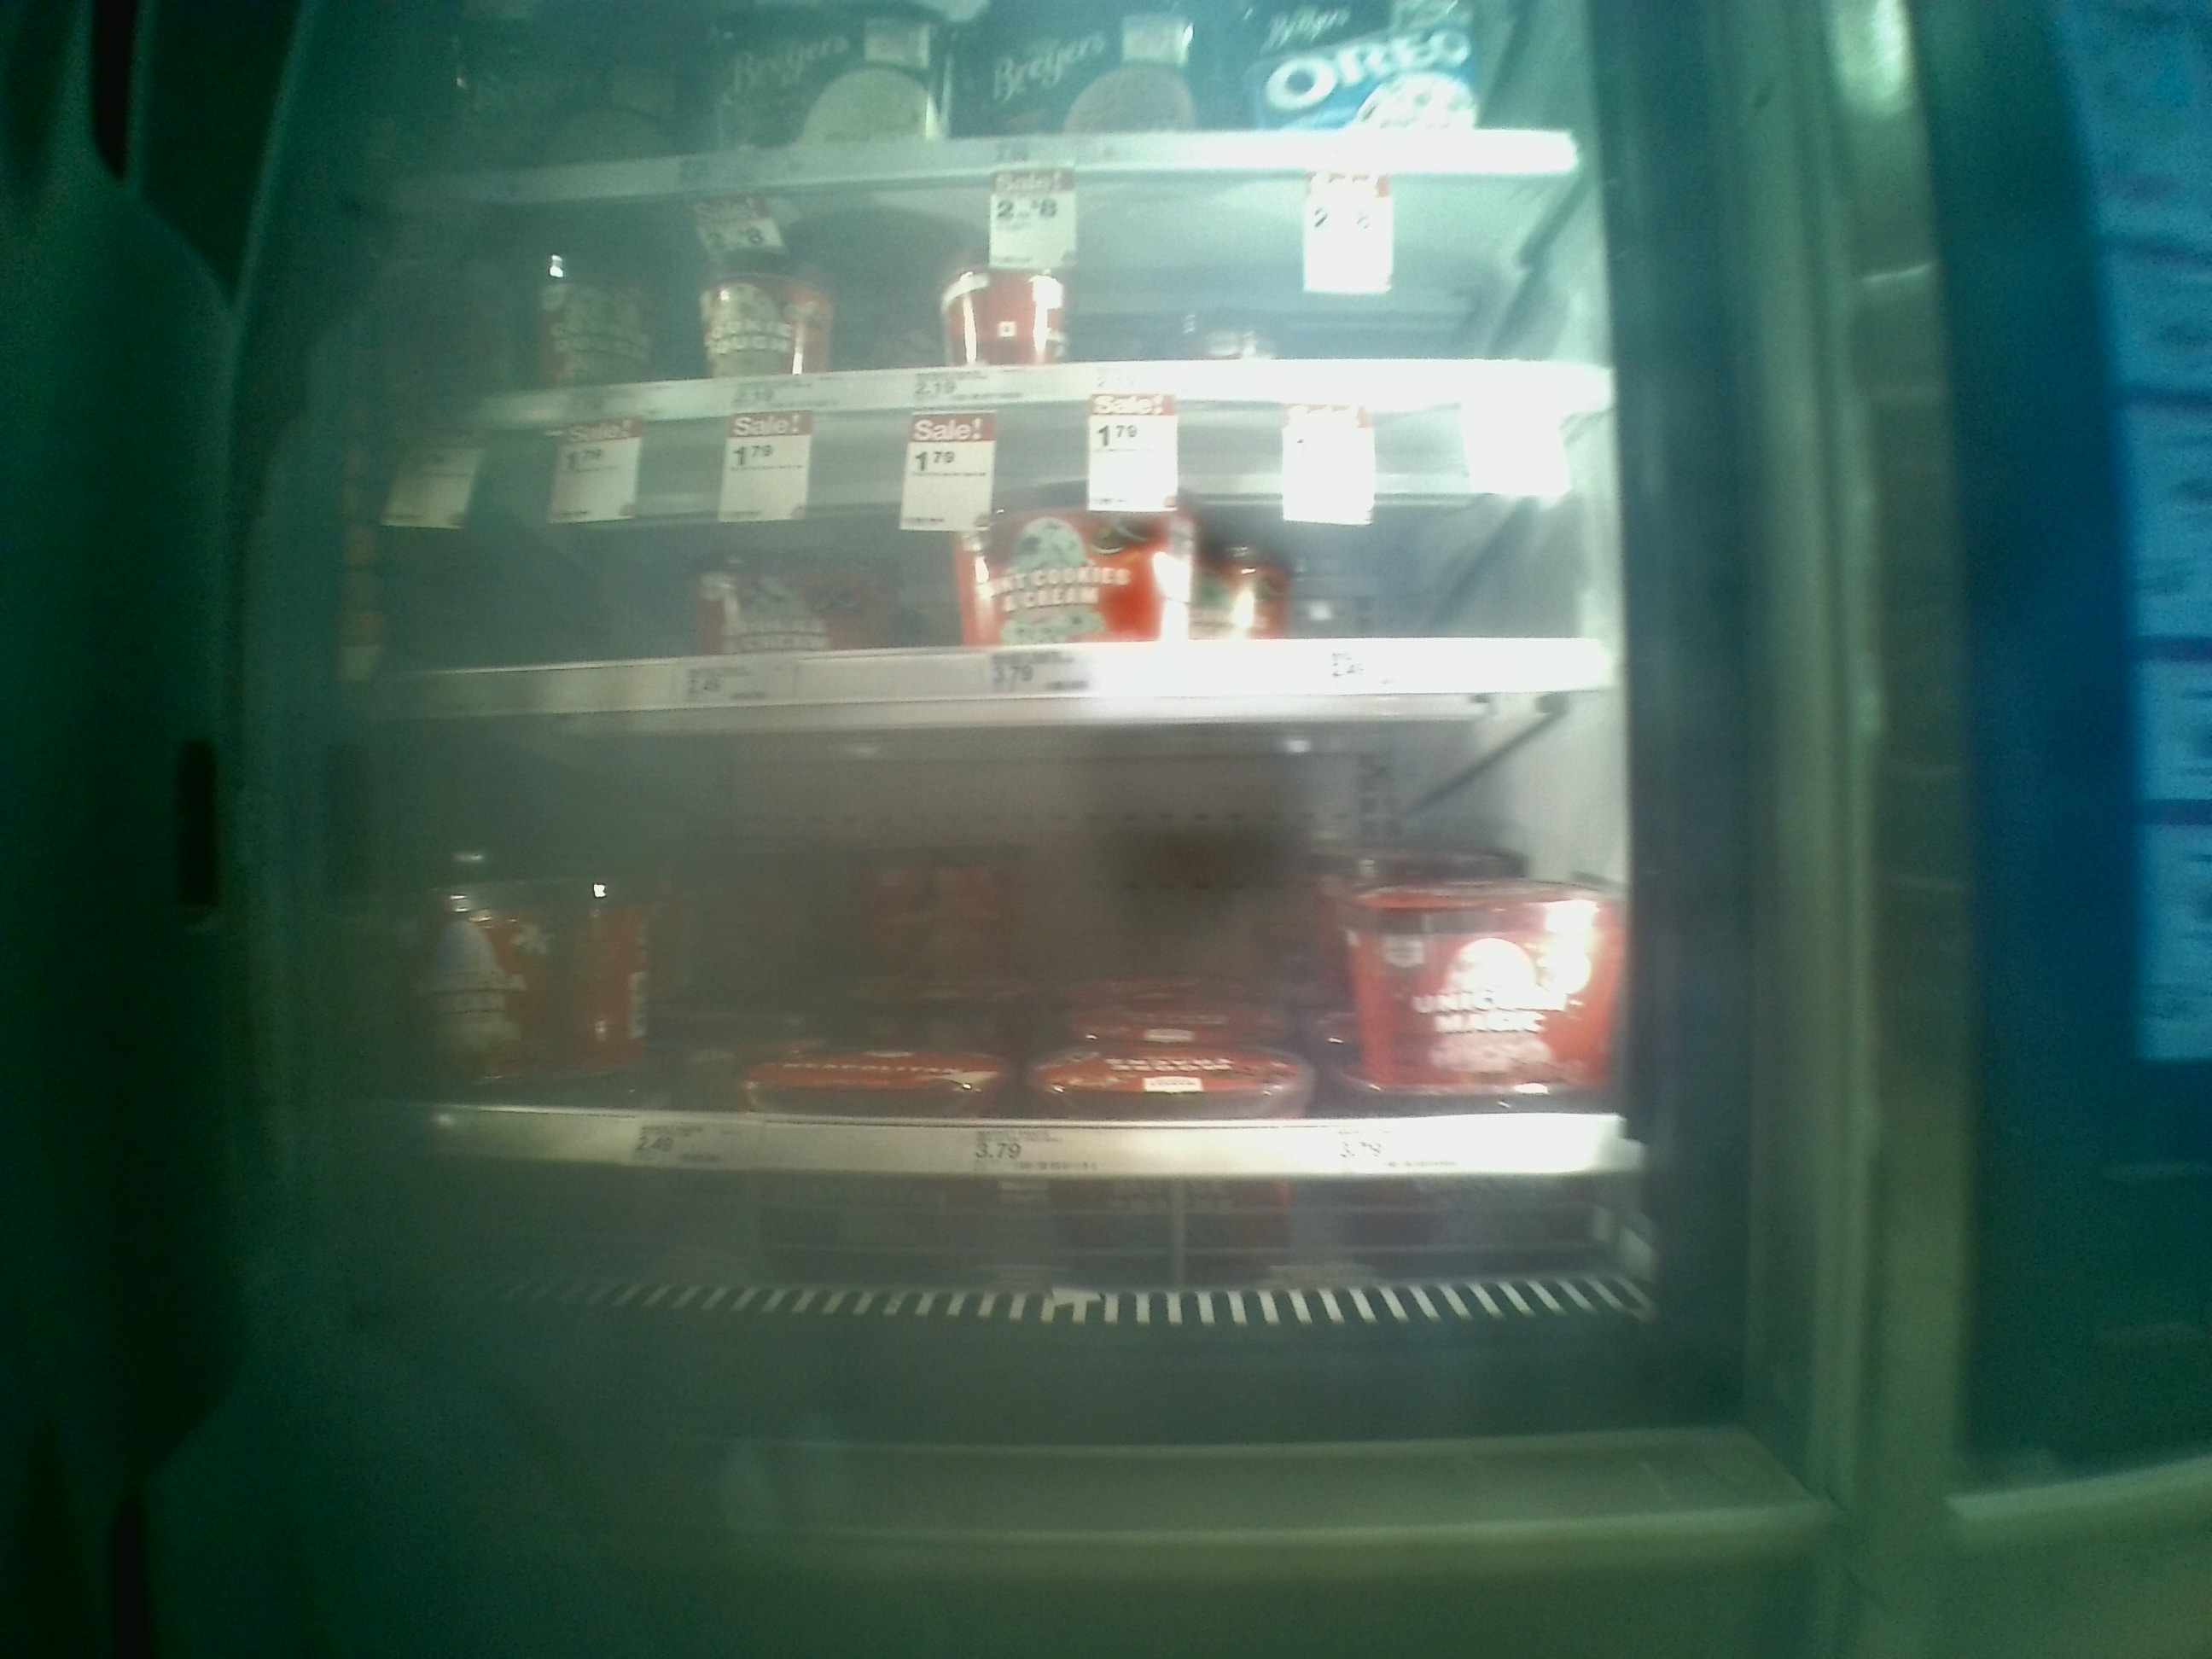ice-cream-shelf: (361, 716, 1644, 1194), (381, 415, 1649, 713)
